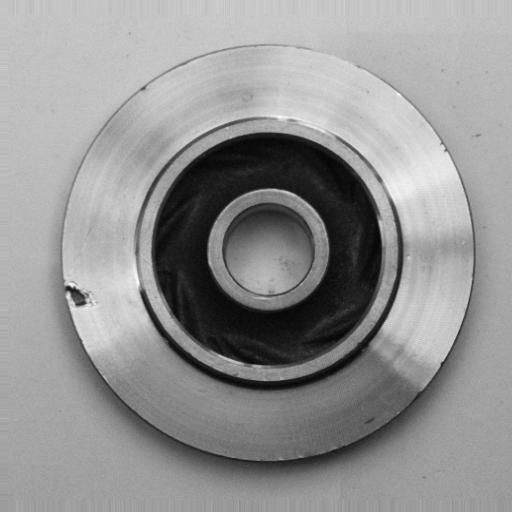crack: (59, 271, 105, 324)
scratch: (270, 109, 346, 143)
unpolished_casting: (57, 39, 480, 466)
